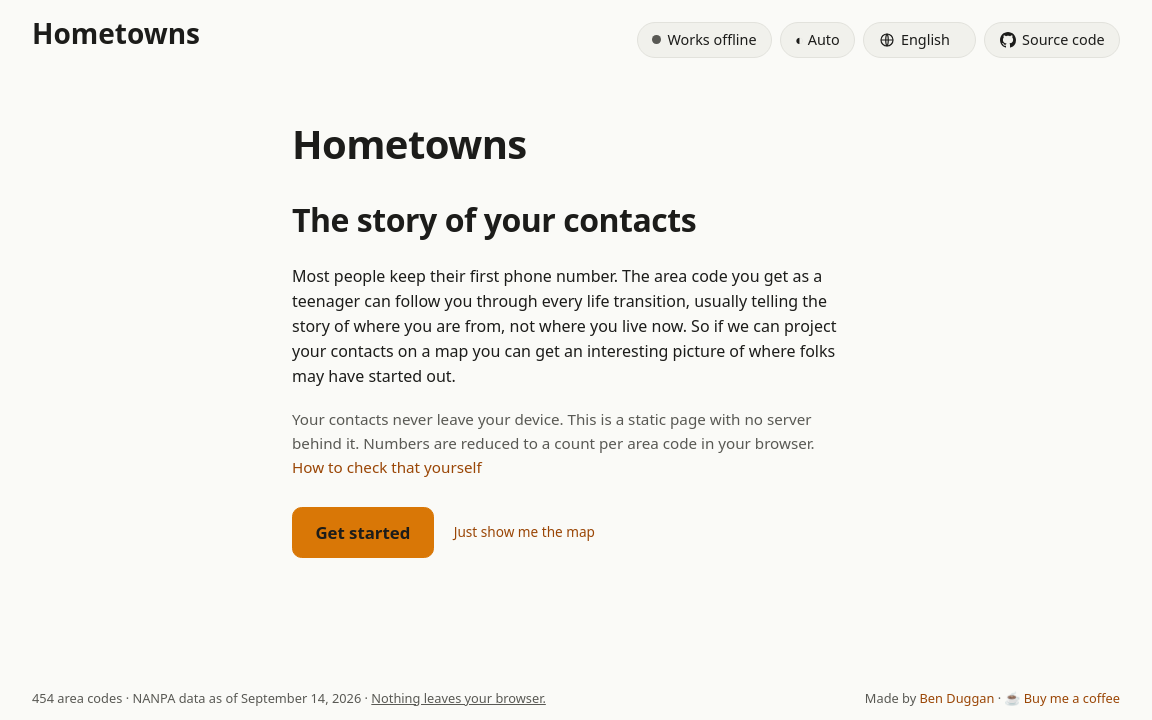
it: App › imports pasted numbers and shows counts
This screenshot has width=1152, height=720.
Click the button "Just show me the map". click: click(524, 533)
box: [454, 522, 595, 543]
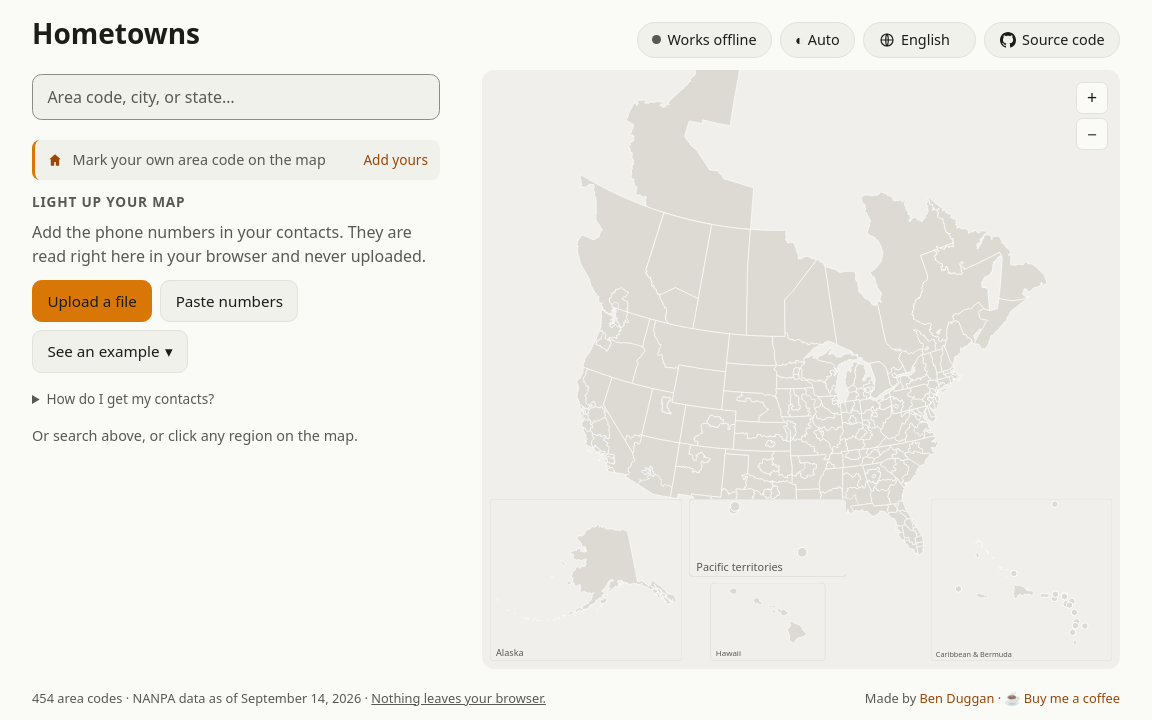
Click the button "Paste numbers". click: click(229, 301)
box: [160, 280, 298, 322]
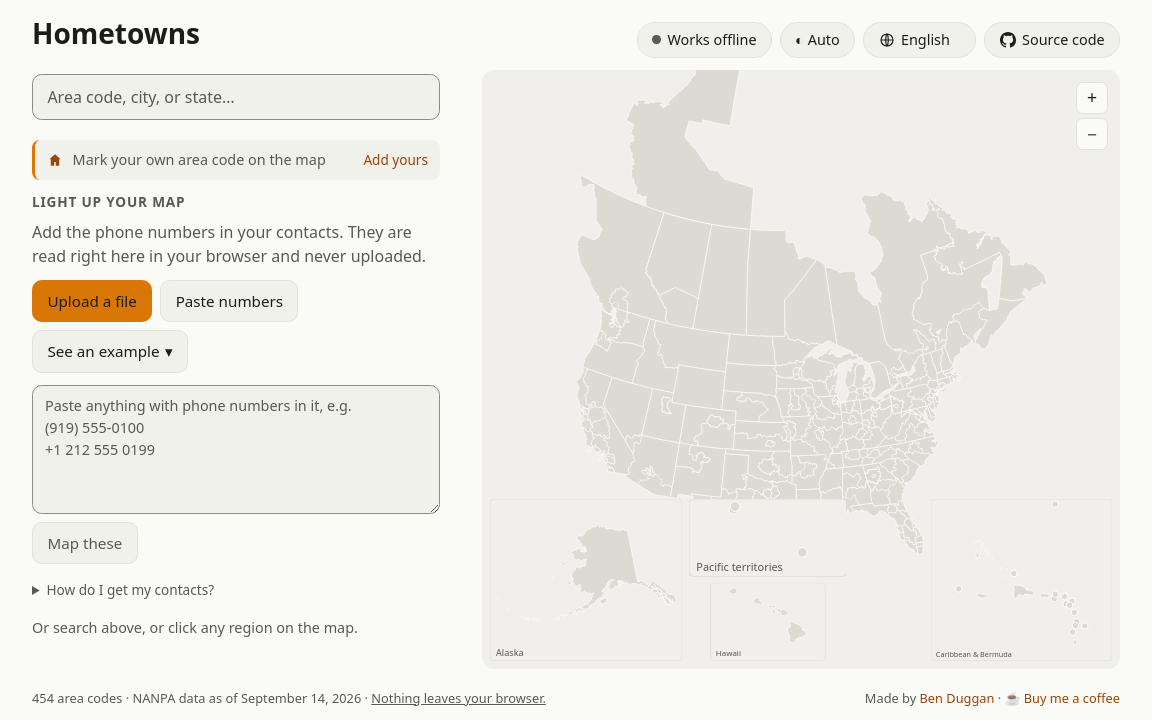
Replace the text in the text box named "Paste phone numbers" with "(919) 555-0100, 919-555-0101, +1 212 555 0199, +44 20 7946 0958". click: (236, 449)
box: [32, 385, 440, 514]
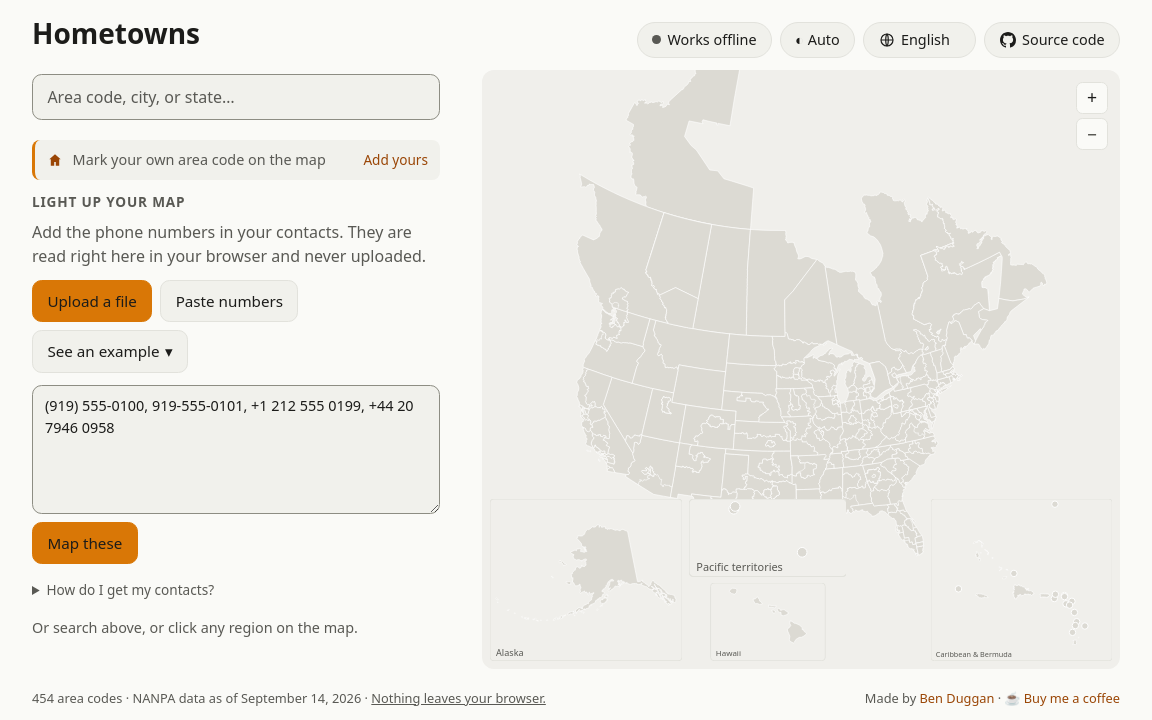
Click the button "Map these". click: click(85, 543)
box: [32, 522, 138, 564]
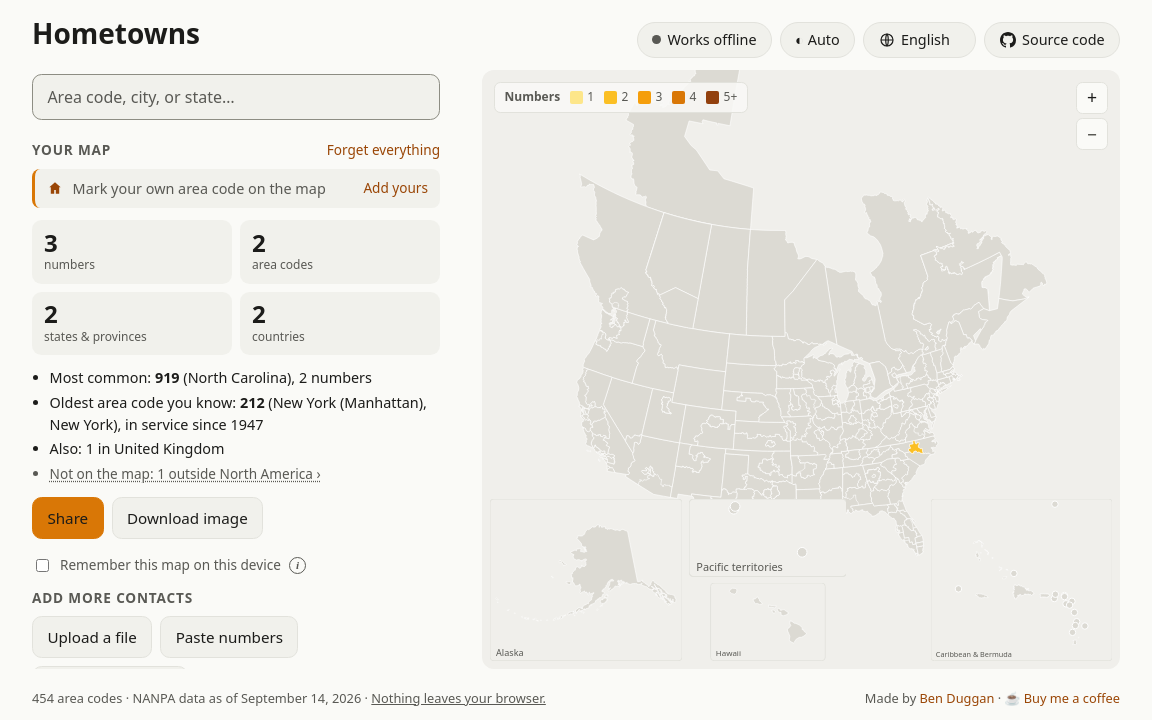
Check: the heading "Your map" is shown, box [32, 140, 111, 161]
Check: the list item "Most common: 919 (North Carolina), 2 numbers" is shown, box [50, 368, 372, 387]
Check: the link "Not on the map: 1 outside North America ›" is shown, box [50, 464, 321, 483]
Click the button "Forget everything". click: click(383, 151)
box: [327, 140, 440, 161]
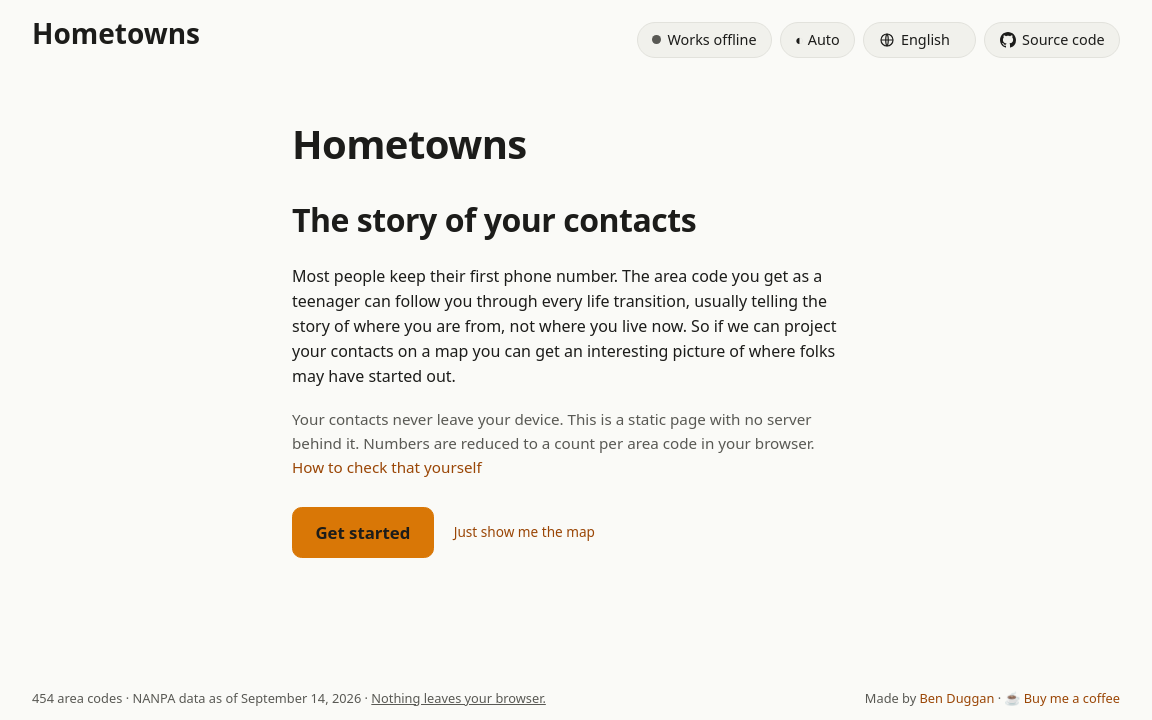
Check: the text "The story of your contacts" is shown, box [292, 198, 696, 241]
